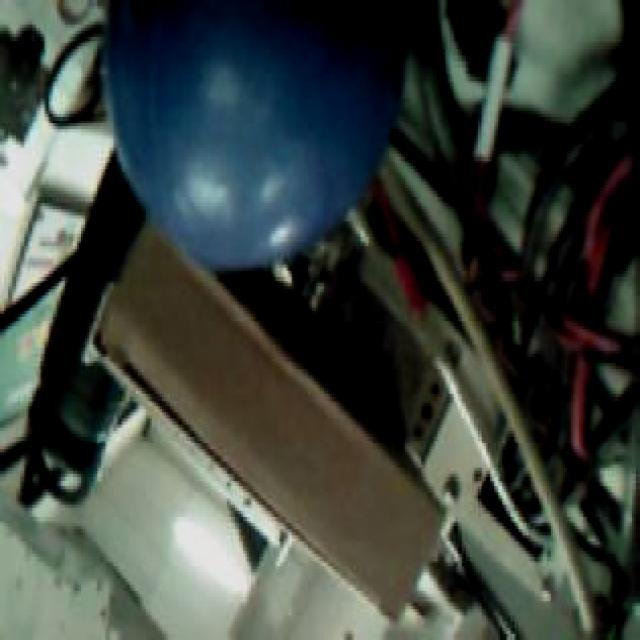BallPurple: (103, 0, 395, 271)
